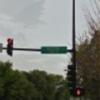traffic lights: (8, 38, 13, 57)
